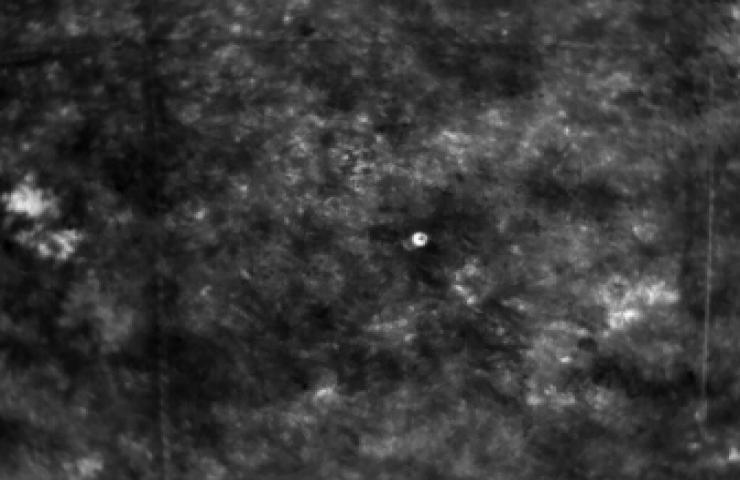landmines: (399, 230, 432, 252)
